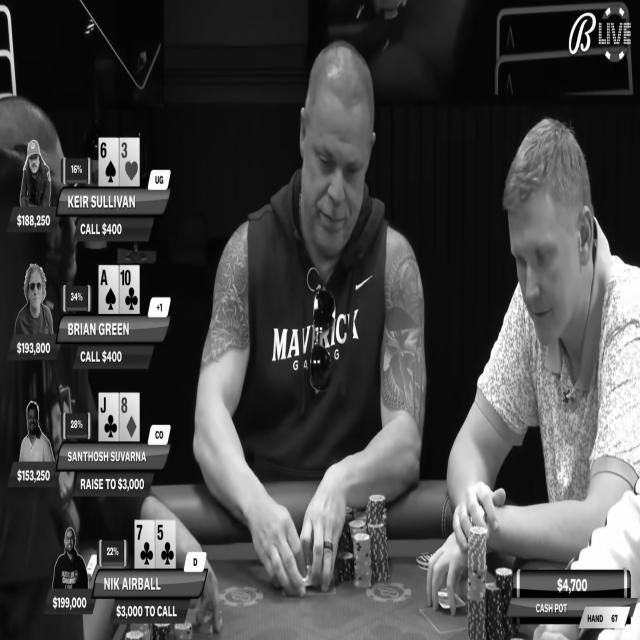3H: (120, 139, 139, 187)
5C: (155, 520, 175, 568)
6S: (100, 138, 118, 186)
7C: (135, 521, 154, 568)
8D: (120, 394, 139, 442)
AS: (100, 265, 118, 314)
JC: (100, 394, 118, 441)
